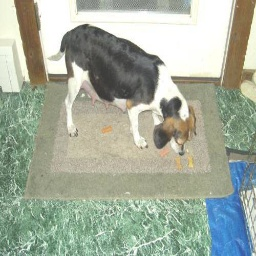dog: (53, 23, 200, 166)
